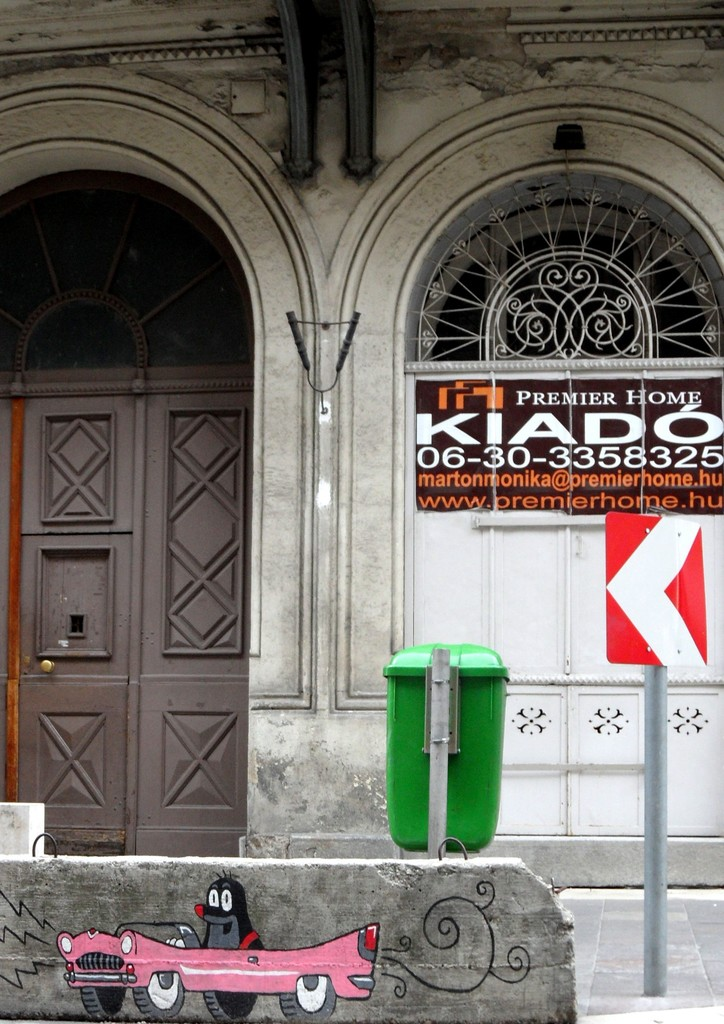Car: (55, 912, 380, 1023)
